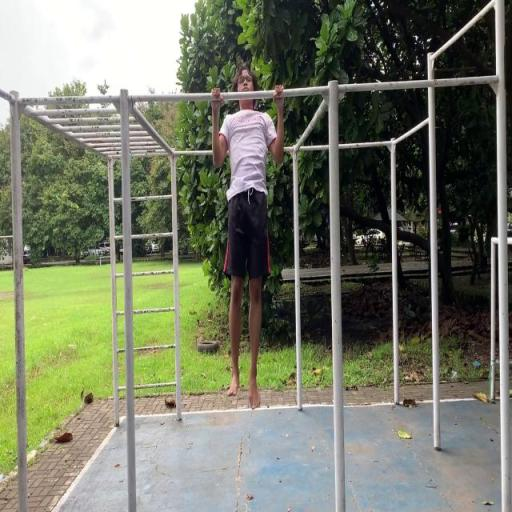Normal_BrenchPress: (209, 69, 286, 409)
